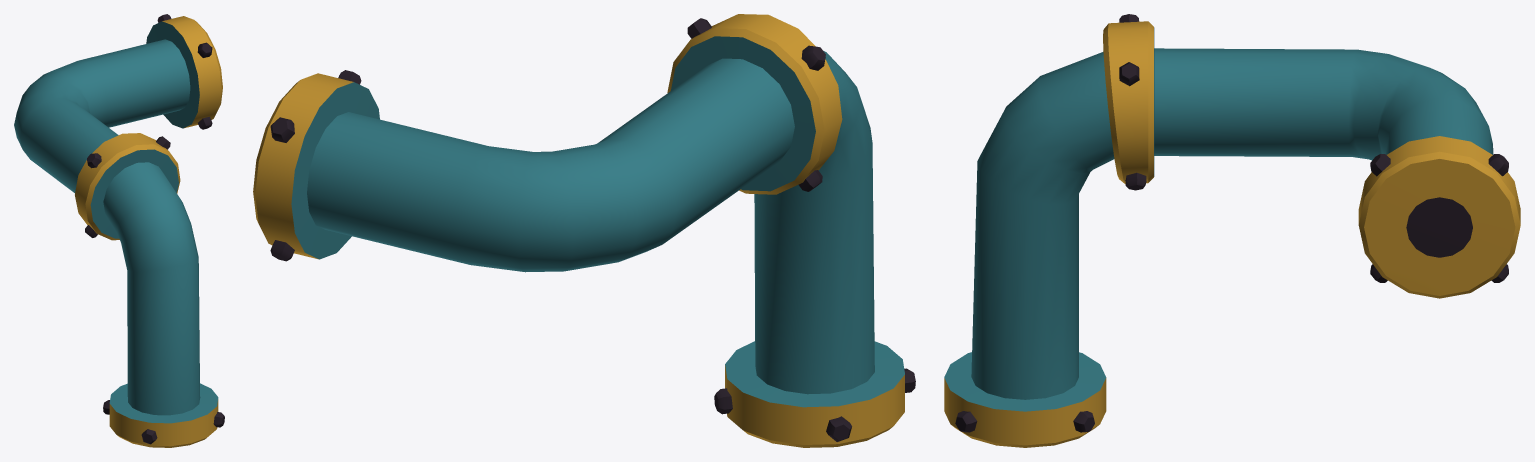
Rendered from PipeRun_08.glb.
3 views of the same model, side by side, from view 1: azimuth 30°, elevation 25°; view 2: azimuth 150°, elevation 25°; view 3: azimuth 270°, elevation 25° (orthographic). The views are drawn at different scales.
Visible parts, largest first — view 1: PipeRun_08; view 2: PipeRun_08; view 3: PipeRun_08.
Boxes of the visible parts, x1,y1,x2,y2 form: PipeRun_08: (14,14,224,447); PipeRun_08: (253,14,915,447); PipeRun_08: (944,14,1520,447).
Bounding box in the file's own units: 2.64 × 2.99 × 4.03.
